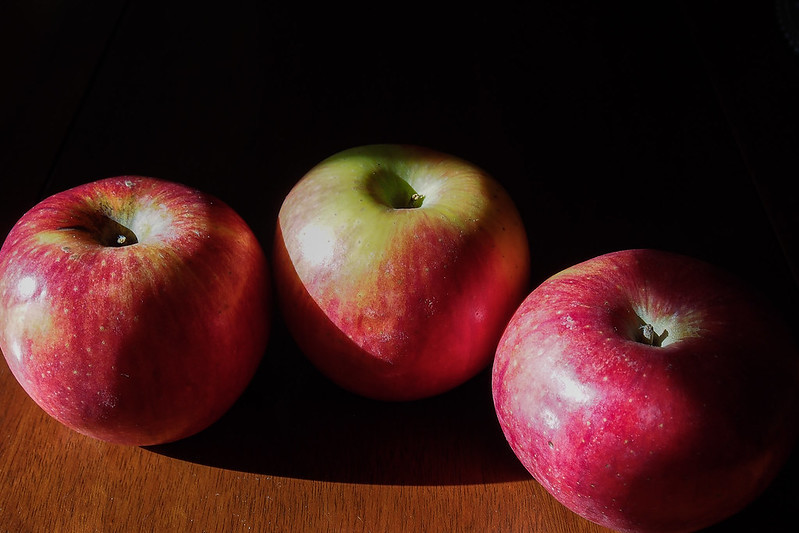apple: (492, 220, 794, 533), (5, 164, 270, 454), (276, 129, 532, 416)
